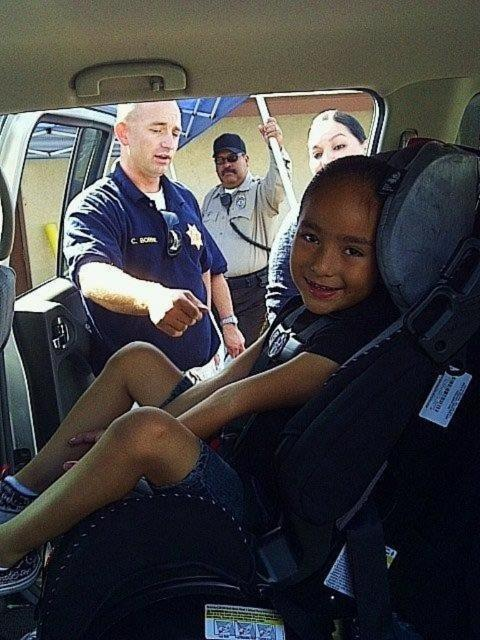SafeDriving: (294, 223, 325, 250), (336, 236, 368, 262)
Seatbelt: (345, 490, 393, 640)
